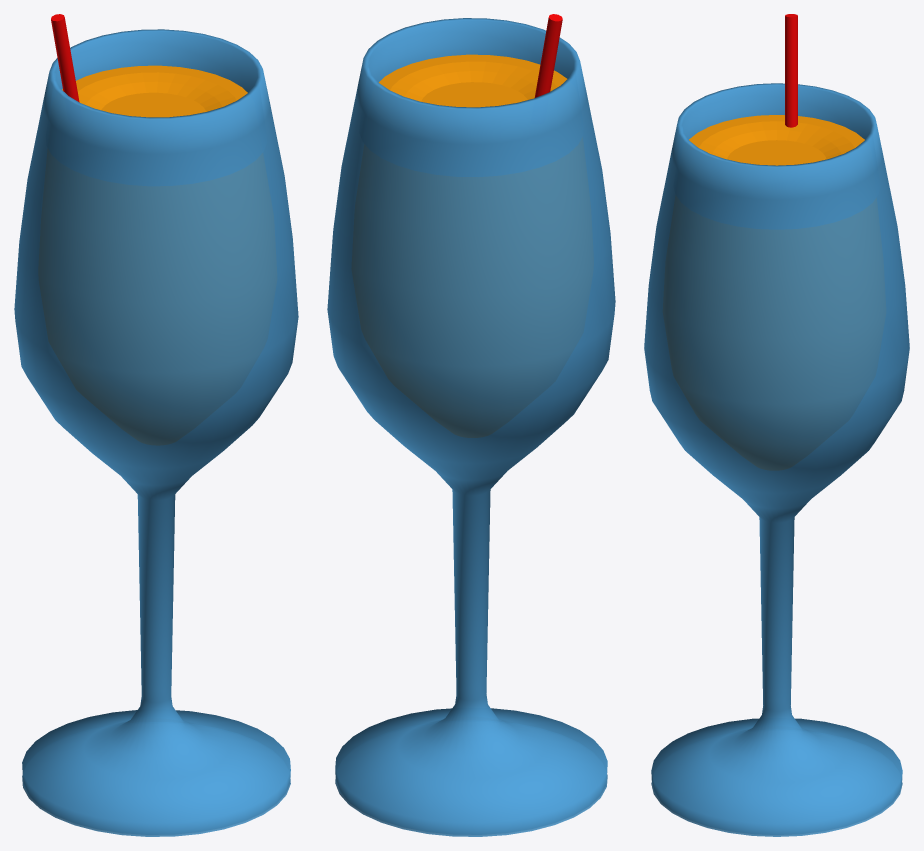
The model's file is drink_1.fbx.
The picture shows the model from 3 angles, left to right: view 1: azimuth 30°, elevation 25°; view 2: azimuth 150°, elevation 25°; view 3: azimuth 270°, elevation 25°; orthographic projection. The views are drawn at different scales.
Visible parts, largest first — view 1: default, orange, Cylinder001; view 2: default, orange, Cylinder001; view 3: default, orange, Cylinder001.
Part boxes in pixels (<box>): default: <box>14,29,298,836</box>; orange: <box>62,65,247,117</box>; Cylinder001: <box>51,14,79,102</box>; default: <box>327,18,615,836</box>; orange: <box>379,54,567,107</box>; Cylinder001: <box>534,14,562,97</box>; default: <box>644,83,909,836</box>; orange: <box>689,115,864,165</box>; Cylinder001: <box>785,14,797,127</box>.
Bounding box in the file's own units: 19.74 × 59.67 × 19.74.
